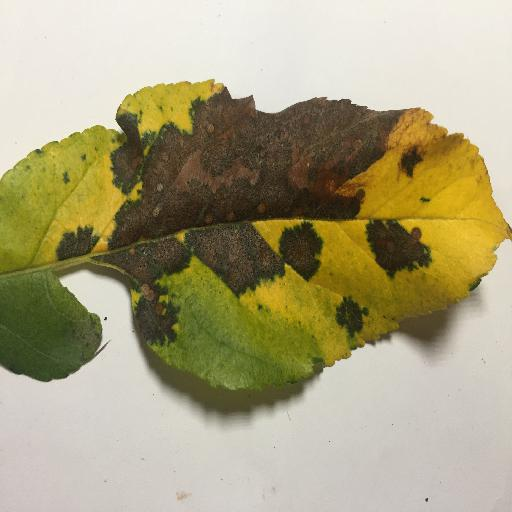Brown_Spot: (106, 97, 406, 220), (113, 243, 189, 341), (189, 227, 280, 292), (363, 220, 427, 271), (272, 224, 324, 280), (48, 227, 104, 262), (332, 294, 370, 337), (400, 149, 428, 180)
